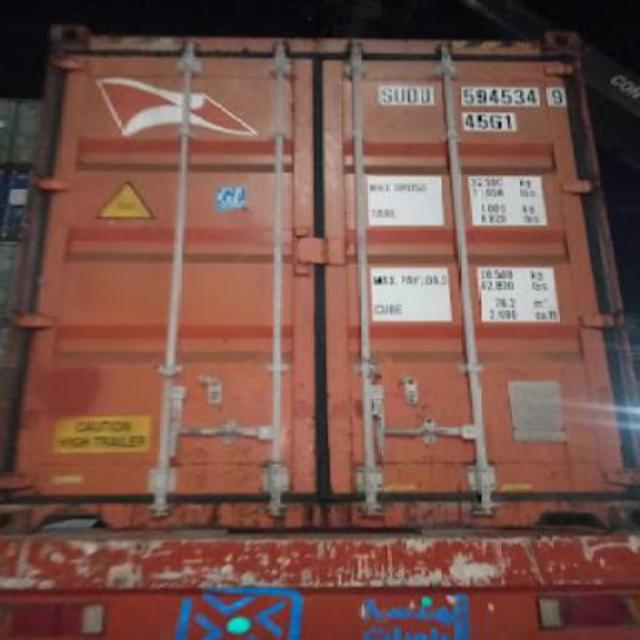3: (514, 87, 526, 103)
4: (490, 87, 500, 103), (526, 90, 538, 102)
5: (501, 85, 514, 105), (462, 86, 476, 104)
9: (548, 85, 566, 106), (478, 87, 490, 103)
D: (408, 87, 420, 105)
S: (381, 88, 394, 102)
U: (418, 85, 432, 105), (394, 87, 406, 103)
